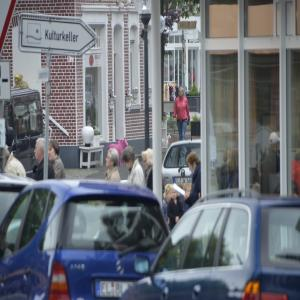Vehicle-registration-plate: (95, 280, 135, 300), (176, 179, 192, 186)
